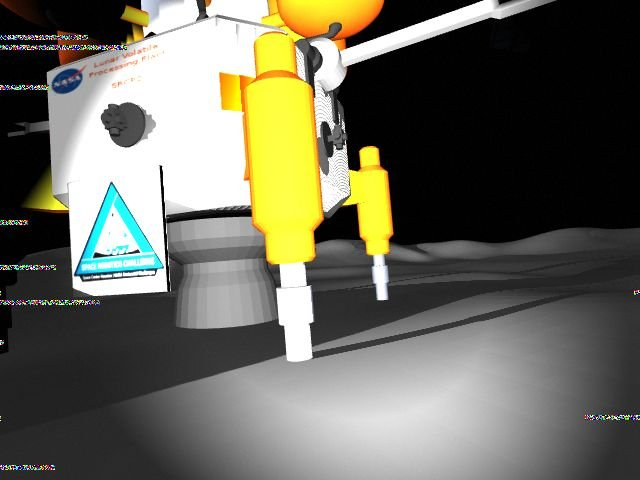basemarker: (72, 180, 166, 283)
